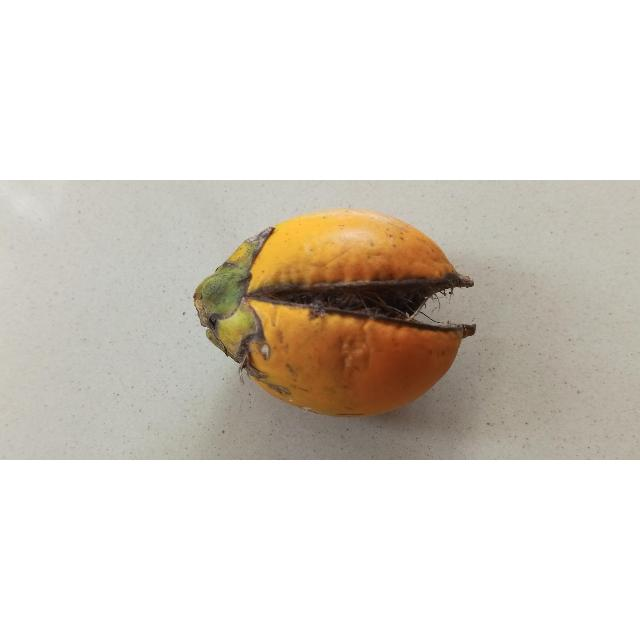damaged: (193, 209, 477, 419)
